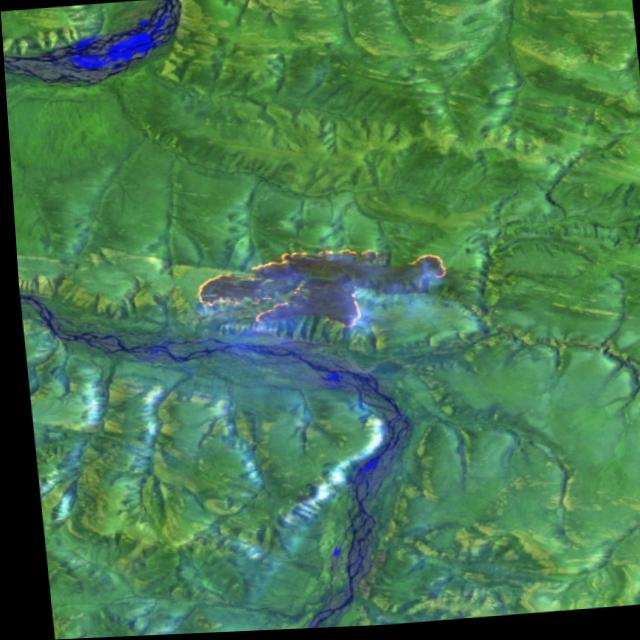fire: (174, 229, 464, 347)
